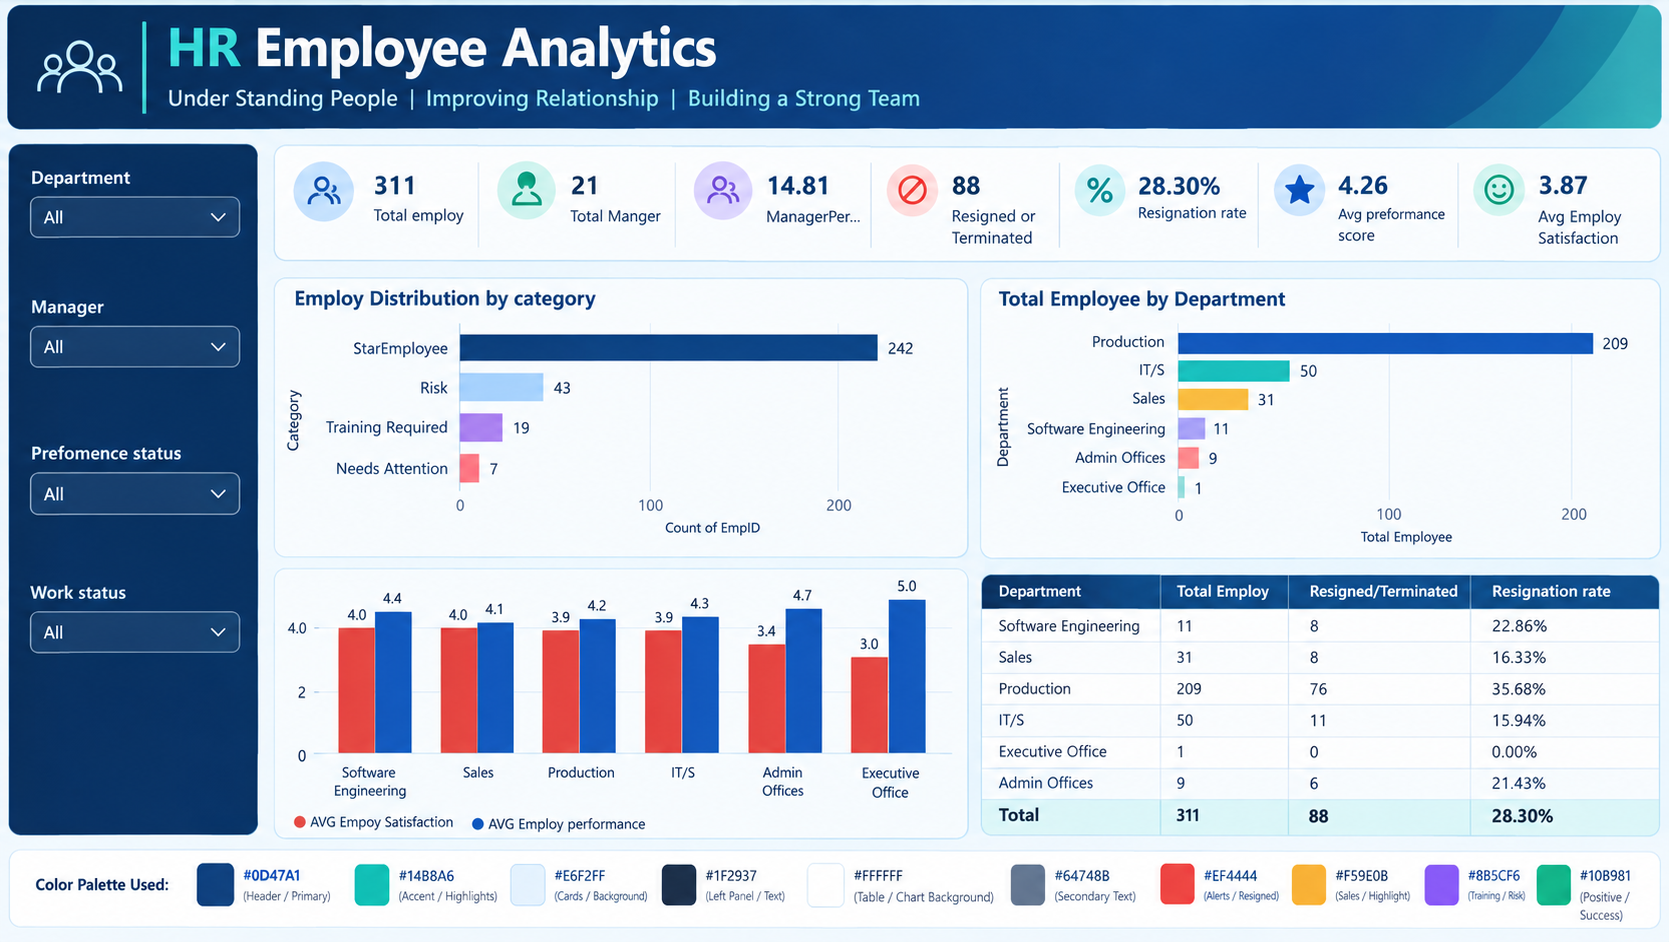

Layout of this report page (visuals, bound fields, positions):
{"tool":"powerbi","page":{"name":"  HR Employee Analytics ","canvas":[1280,720],"ordinal":0},"visuals":[{"type":"shape","box":[210,125,1058.3,90],"z":0},{"type":"shape","box":[0,0,1280,112],"z":1000},{"type":"textbox","box":[0,0,1280.3,78.3],"z":2000},{"type":"textbox","box":[0,67.3,1092,45.2],"z":3000},{"type":"shape","box":[0,123.8,200,583.8],"z":4000},{"type":"slicer","fields":{"Values":["hr_project departmentstatus.Department"]},"box":[13.8,138.8,172.5,93.8],"z":5000},{"type":"slicer","fields":{"Values":["hr_project category.Category"]},"box":[13.8,373.8,171.2,93.8],"z":6000},{"type":"slicer","fields":{"Values":["hr_project category.EmploymentStatus"]},"box":[15,493.8,172.5,93.8],"z":7000},{"type":"slicer","fields":{"Values":["hr_project mangerstatuswithoutdept.ManagerName"]},"box":[16.2,250,171.2,95],"z":8000},{"type":"clusteredBarChart","title":"Employ  Distribution  by category ","fields":{"Category":["hr_project category.Category","hr_project category.Department"],"Y":["CountNonNull(employedata.EmpID)"]},"box":[209.9,225.6,450,223.2],"z":9000},{"type":"barChart","title":"Total Employee by Department","fields":{"Category":["hr_project departmentstatus.Department"],"Y":["Sum(hr_project departmentstatus.Total_employee_under_manager)"]},"box":[674.4,225.6,593.6,223.2],"z":10000},{"type":"cardVisual","fields":{"Data":["CountNonNull(employedata.EmpID)"]},"box":[211.7,125.7,140,91.7],"z":11000},{"type":"cardVisual","fields":{"Data":["Sum(hr_project mangerstatuswithoutdept.Resigned_or_Terminated_Count)"]},"box":[651.7,125.7,175,91.7],"z":12000},{"type":"cardVisual","fields":{"Data":["hr_project mangerstatuswithoutdept.resignation_rate"]},"box":[826.7,124.9,161.7,93.3],"z":13000},{"type":"cardVisual","fields":{"Data":["Avg(hr_project mangerstatuswithoutdept.Avg_Category_score)"]},"box":[971.7,127.4,181.7,88.3],"z":14000},{"type":"cardVisual","fields":{"Data":["Avg(hr_project mangerstatuswithoutdept.Avg_EmpSatisfaction)"]},"box":[1108.3,138.3,171.7,93.3],"z":15000},{"type":"cardVisual","fields":{"Data":["CountNonNull(hr_project mangerstatuswithoutdept.ManagerID)"]},"box":[351.7,125.7,141.7,91.7],"z":16000},{"type":"cardVisual","fields":{"Data":["employedata.EmployOnManger"]},"box":[481.7,127.4,193.3,88.3],"z":17000},{"type":"clusteredColumnChart","title":"Employ  Distribution  by category ","fields":{"Y":["Avg(hr_project mangerstatuswithoutdept.Avg_EmpSatisfaction)","Avg(hr_project mangerstatuswithoutdept.Avg_Category_score)"],"Category":["employedata.Department"]},"box":[211.4,460,517.1,240],"z":18000},{"type":"shape","box":[738.6,458.6,530,241.4],"z":19000},{"type":"tableEx","title":"Employ  Distribution  by category ","fields":{"Values":["hr_project departmentstatus.Department","hr_project departmentstatus.Total_employee_under_manager","hr_project departmentstatus.Resigned_or_Terminated_Count","hr_project departmentstatus.Avg Resignation Rate"]},"box":[768.6,460,495.7,232.9],"z":20000}]}

Visuals, with their boxes in screenshot pixels (x1, y1, x2, y2), scaled from the page's 1280x720 canvas onto the 1669x942 screenshot:
shape: select_region(274, 164, 1654, 281)
shape: select_region(0, 0, 1668, 147)
textbox: select_region(0, 0, 1668, 102)
textbox: select_region(0, 88, 1424, 147)
shape: select_region(0, 162, 261, 926)
slicer - hr_project departmentstatus.Department: select_region(18, 182, 243, 304)
slicer - hr_project category.Category: select_region(18, 489, 241, 612)
slicer - hr_project category.EmploymentStatus: select_region(20, 646, 244, 769)
slicer - hr_project mangerstatuswithoutdept.ManagerName: select_region(21, 327, 244, 451)
"Employ  Distribution  by category " clusteredBarChart: select_region(274, 295, 860, 587)
"Total Employee by Department" barChart: select_region(879, 295, 1653, 587)
cardVisual - CountNonNull(employedata.EmpID): select_region(276, 164, 459, 284)
cardVisual - Sum(hr_project mangerstatuswithoutdept.Resigned_or_Terminated_Count): select_region(850, 164, 1078, 284)
cardVisual - hr_project mangerstatuswithoutdept.resignation_rate: select_region(1078, 163, 1289, 285)
cardVisual - Avg(hr_project mangerstatuswithoutdept.Avg_Category_score): select_region(1267, 167, 1504, 282)
cardVisual - Avg(hr_project mangerstatuswithoutdept.Avg_EmpSatisfaction): select_region(1445, 181, 1668, 303)
cardVisual - CountNonNull(hr_project mangerstatuswithoutdept.ManagerID): select_region(459, 164, 643, 284)
cardVisual - employedata.EmployOnManger: select_region(628, 167, 880, 282)
"Employ  Distribution  by category " clusteredColumnChart: select_region(276, 602, 950, 916)
shape: select_region(963, 600, 1654, 916)
"Employ  Distribution  by category " tableEx: select_region(1002, 602, 1649, 907)
